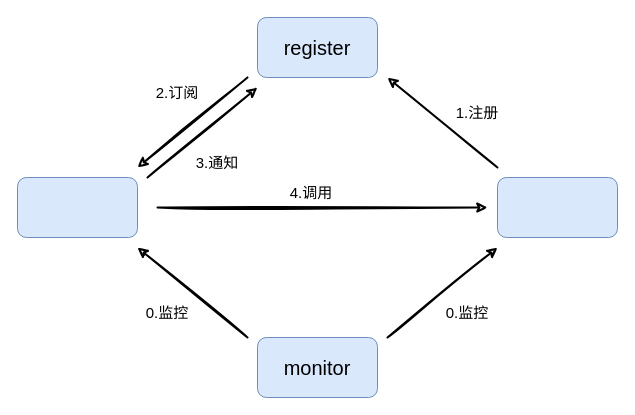
Image size: 635x415. Some labels were removed from this diagram. The centre of each missing label's shape, as x and y in pixels:
"client" goes at [77,207].
"server" goes at [557,207].
